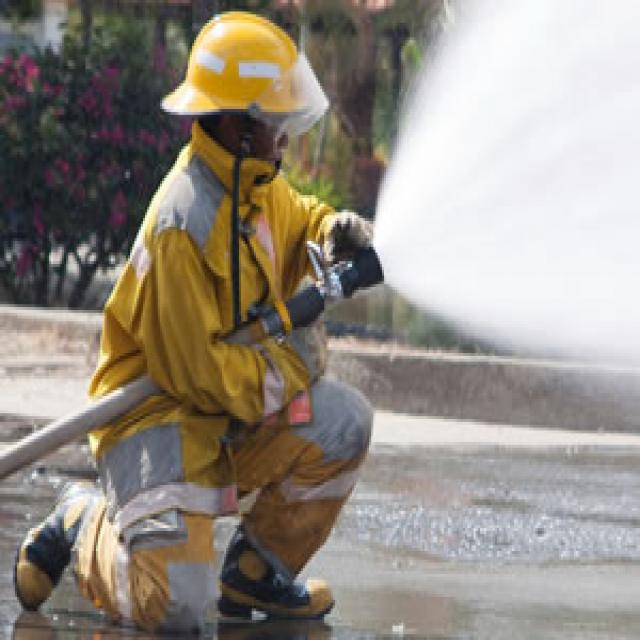Reflective-Jacket: (66, 146, 354, 637)
Safety-Helmet: (156, 6, 330, 132)
